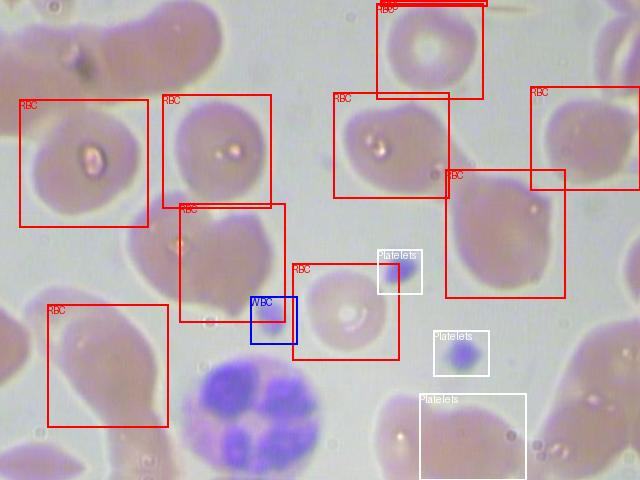Platelets: (419, 393, 526, 480), (433, 330, 489, 376), (377, 249, 422, 294)
RBC: (19, 99, 148, 227), (445, 169, 565, 298), (47, 304, 168, 427), (179, 203, 285, 322), (162, 94, 271, 208), (333, 92, 449, 198), (530, 86, 640, 190), (292, 263, 399, 360), (376, 3, 483, 99), (380, 0, 487, 6)
WBC: (250, 296, 297, 344)
